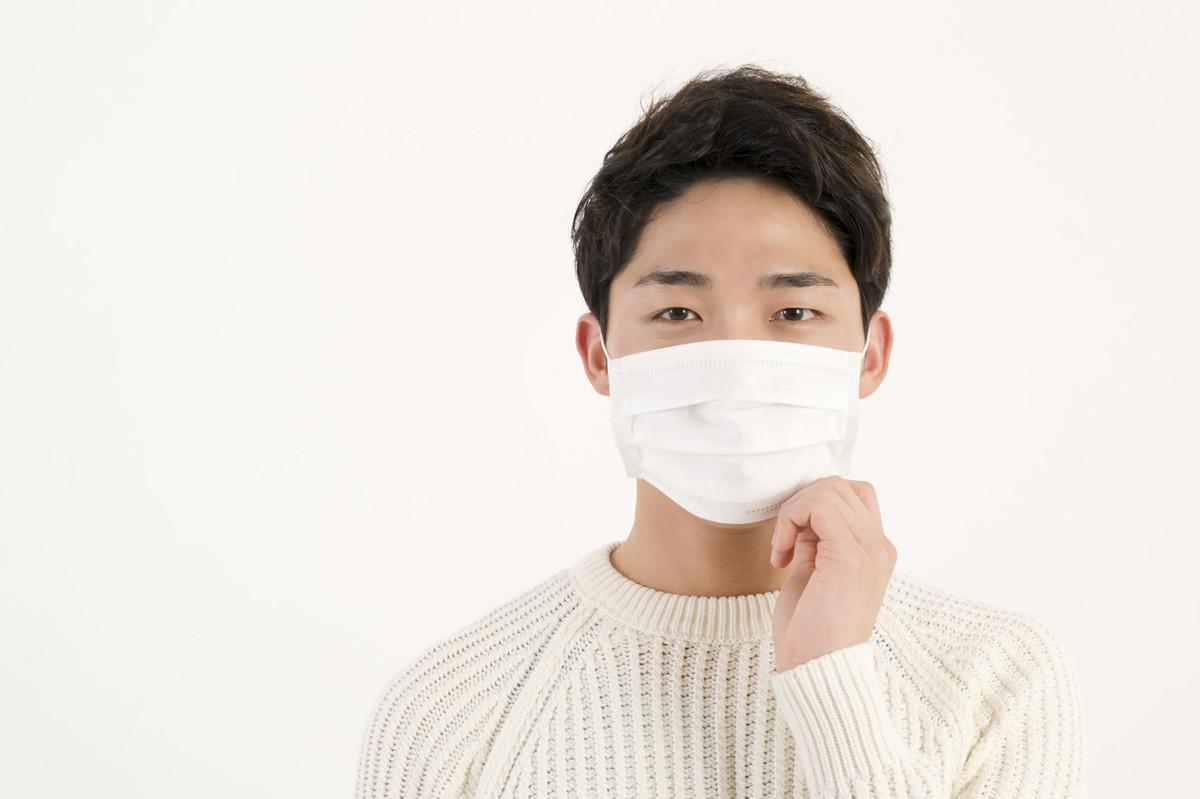mask: (612, 167, 876, 526)
